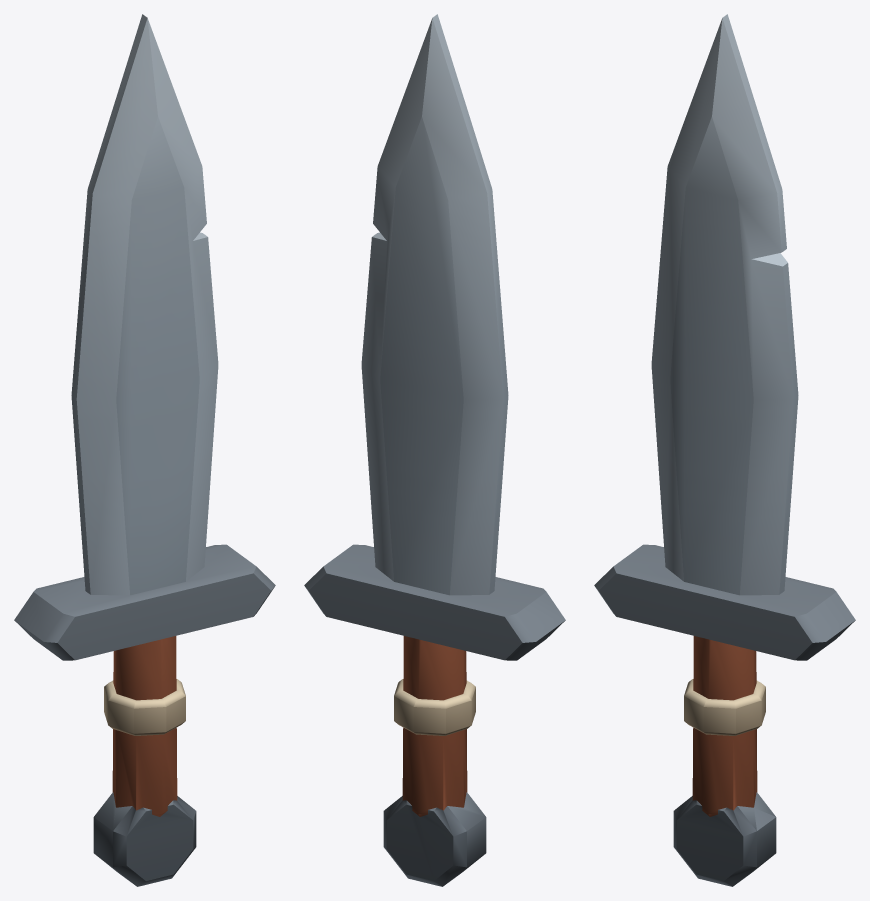
The model's file is dagger_kukri.glb.
3 renders of one model, left to right at view 1: azimuth 30°, elevation 25°; view 2: azimuth 150°, elevation 25°; view 3: azimuth 330°, elevation 25°, orthographic.
Visible parts, largest first — view 1: Item; view 2: Item; view 3: Item.
Part boxes in pixels (x1,y1,x2,y2): Item: (14, 14, 275, 886); Item: (304, 14, 565, 886); Item: (594, 14, 855, 886).
Bounding box in the file's own units: 0.36 × 1.27 × 0.1142.
2 materials, 2 textured.
